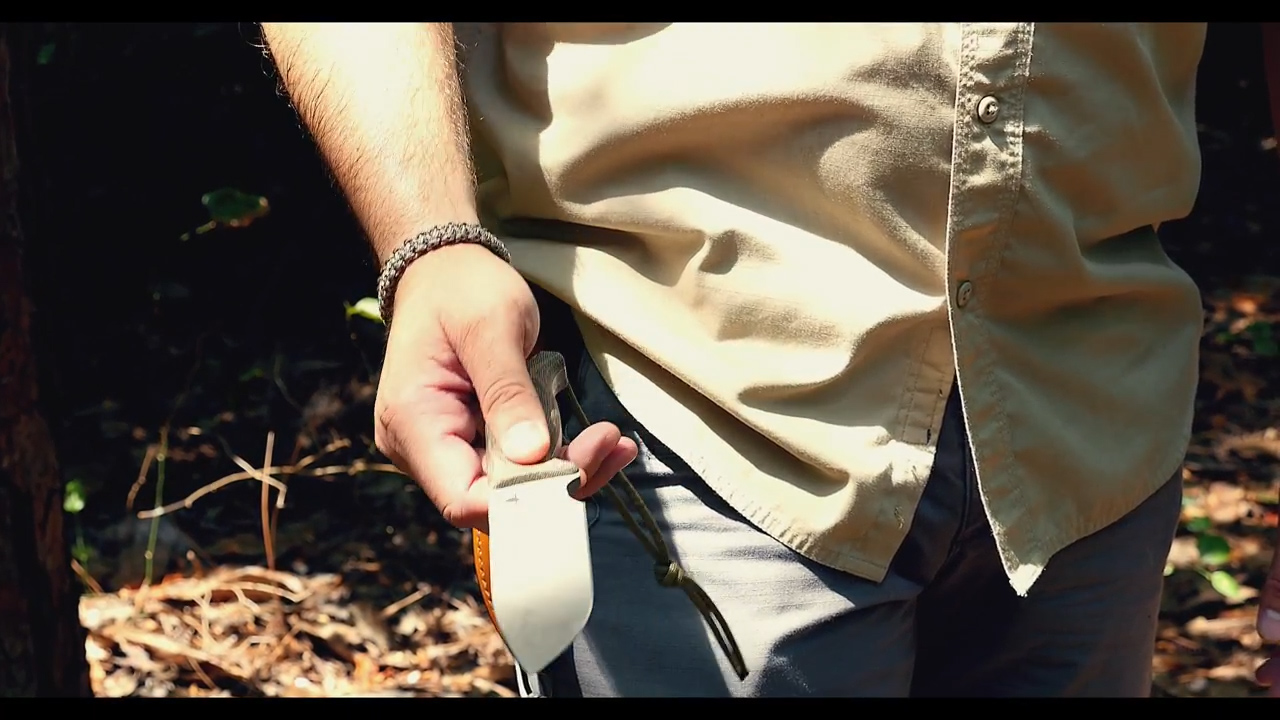knife: (369, 343, 642, 685)
